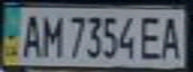3: (84, 12, 106, 60)
4: (118, 12, 139, 61)
5: (100, 12, 121, 60)
7: (63, 12, 84, 59)
A: (157, 12, 187, 61), (18, 10, 45, 58)
E: (136, 12, 166, 61)
M: (36, 11, 63, 58)
